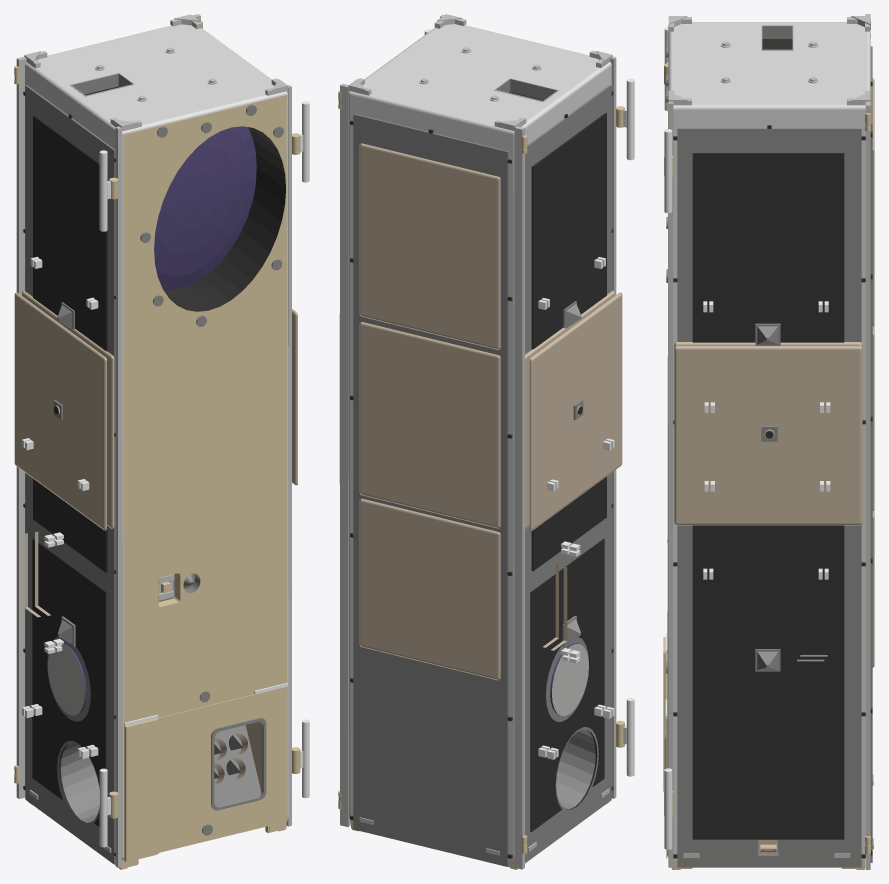
The model's file is Satellite Kit body 2.glb.
3 renders of one model, left to right at view 1: azimuth 30°, elevation 25°; view 2: azimuth 150°, elevation 25°; view 3: azimuth 270°, elevation 25°, orthographic. The views are drawn at different scales.
Parts seen in each view (by area): view 1: Layer_0, Layer_4, Layer_2, Layer_1, Layer_3; view 2: Layer_0, Layer_4, Layer_2; view 3: Layer_0, Layer_1, Layer_3.
Part boxes in pixels (left/top/right/bottom): Layer_0: left=14, top=14, right=291, bottom=869; Layer_4: left=14, top=76, right=118, bottom=818; Layer_2: left=22, top=150, right=110, bottom=847; Layer_1: left=292, top=133, right=300, bottom=773; Layer_3: left=300, top=101, right=309, bottom=798; Layer_0: left=338, top=14, right=616, bottom=869; Layer_4: left=522, top=106, right=624, bottom=845; Layer_2: left=547, top=78, right=634, bottom=776; Layer_0: left=663, top=14, right=874, bottom=869; Layer_1: left=664, top=122, right=870, bottom=845; Layer_3: left=664, top=129, right=830, bottom=849.
Bounding box in the file's own units: 2.46 × 8.4 × 2.09.
